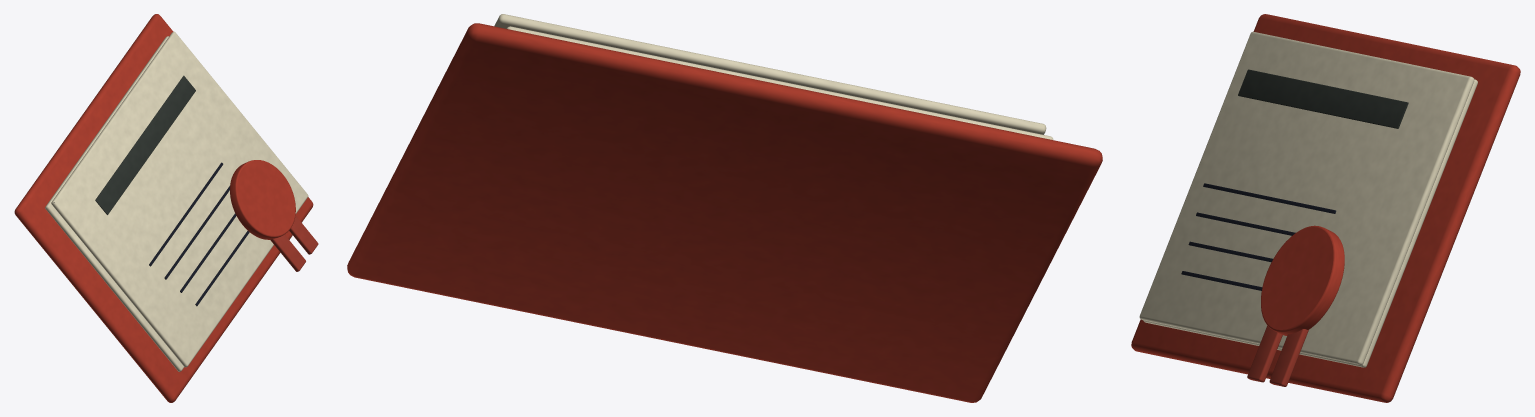
The picture shows the model from 3 angles, left to right: view 1: azimuth 30°, elevation 25°; view 2: azimuth 150°, elevation 25°; view 3: azimuth 270°, elevation 25°; orthographic projection. The views are drawn at different scales.
Parts seen in each view (by area): view 1: Folded document backing; view 2: Folded document backing; view 3: Folded document backing.
Boxes of the visible parts, bbox=[...] form: Folded document backing: bbox=[14, 14, 318, 402]; Folded document backing: bbox=[347, 14, 1102, 402]; Folded document backing: bbox=[1131, 14, 1520, 402].
Bounding box in the file's own units: 1.35 × 0.9884 × 0.9515.
Materials: 1 (1 with a texture image).
